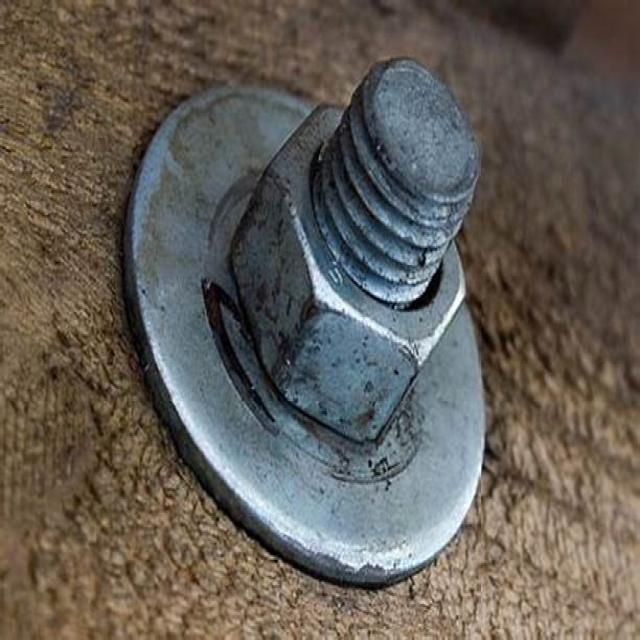bolt nut: (223, 88, 465, 448)
